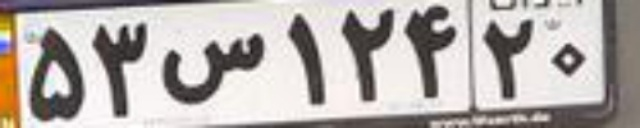0: (546, 41, 586, 76)
1: (287, 13, 329, 105)
2: (339, 7, 392, 101), (482, 17, 533, 99)
3: (93, 21, 149, 117)
4: (403, 5, 456, 98)
5: (25, 27, 84, 120)
sin: (161, 31, 267, 103)
